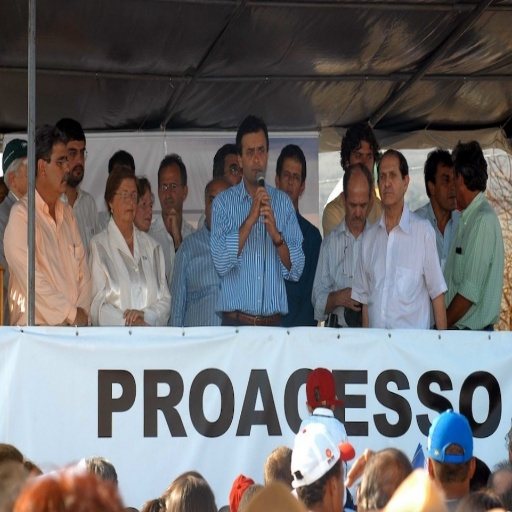hand: (342, 445, 374, 489), (338, 285, 361, 313), (252, 187, 271, 217), (121, 306, 144, 327), (165, 206, 180, 238), (71, 306, 89, 326)
